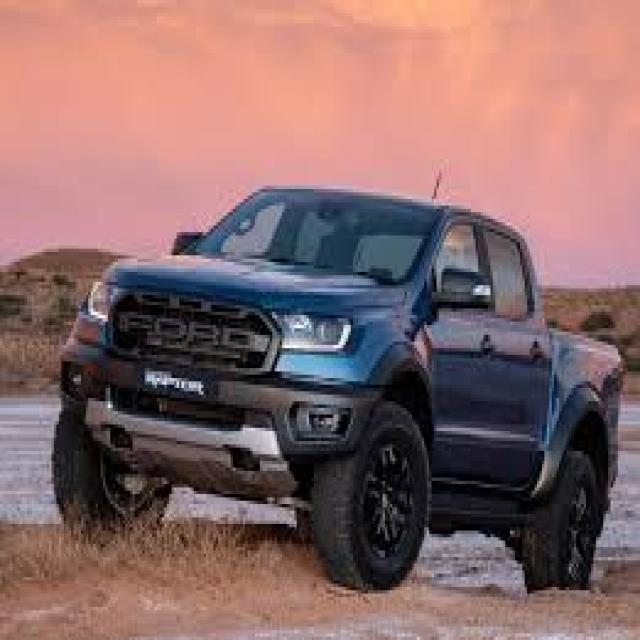Pickup Trucks: (52, 182, 626, 597)
